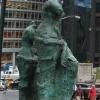Statue: (17, 4, 80, 100)
